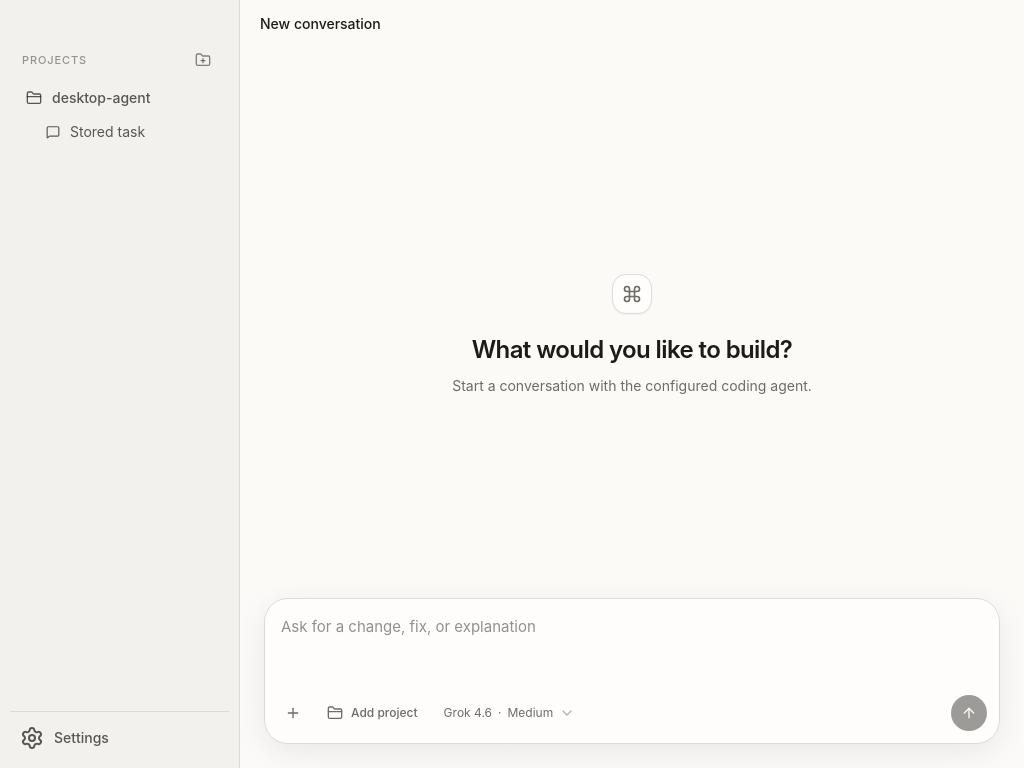
Test: App › renders a stored conversation without exposing background runtime activation
Click the button "Stored task" at (130, 132), box x1=36 y1=116 x2=223 y2=148
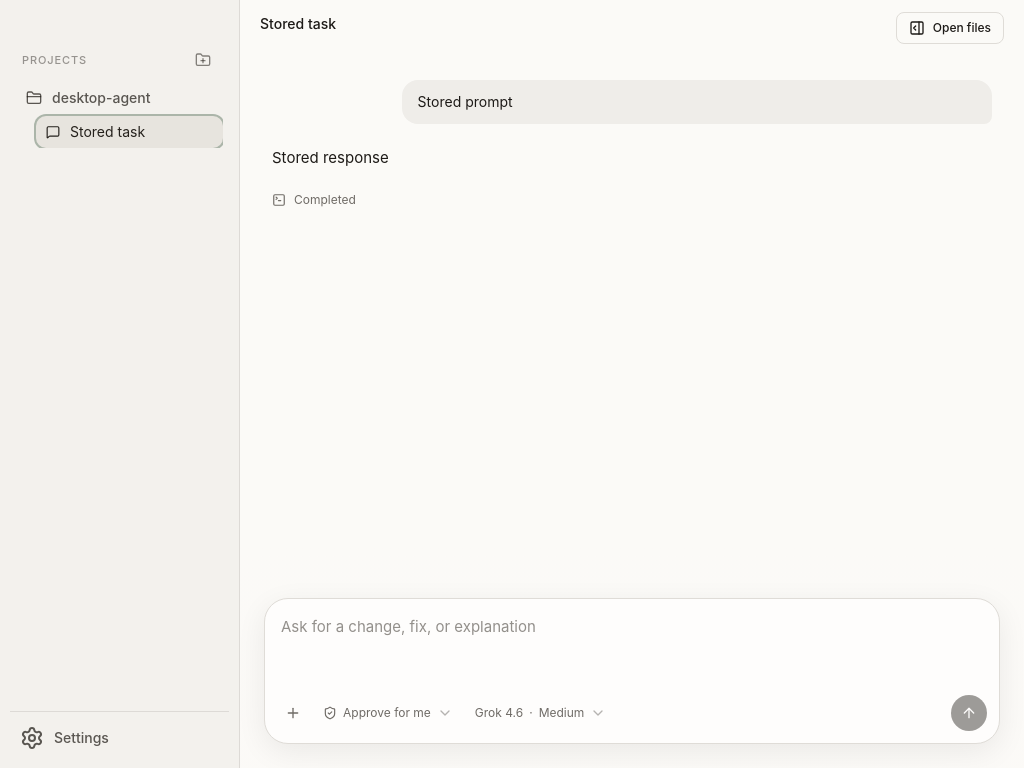
Result: the text "Stored response" is shown at x1=272 y1=148 x2=389 y2=167
